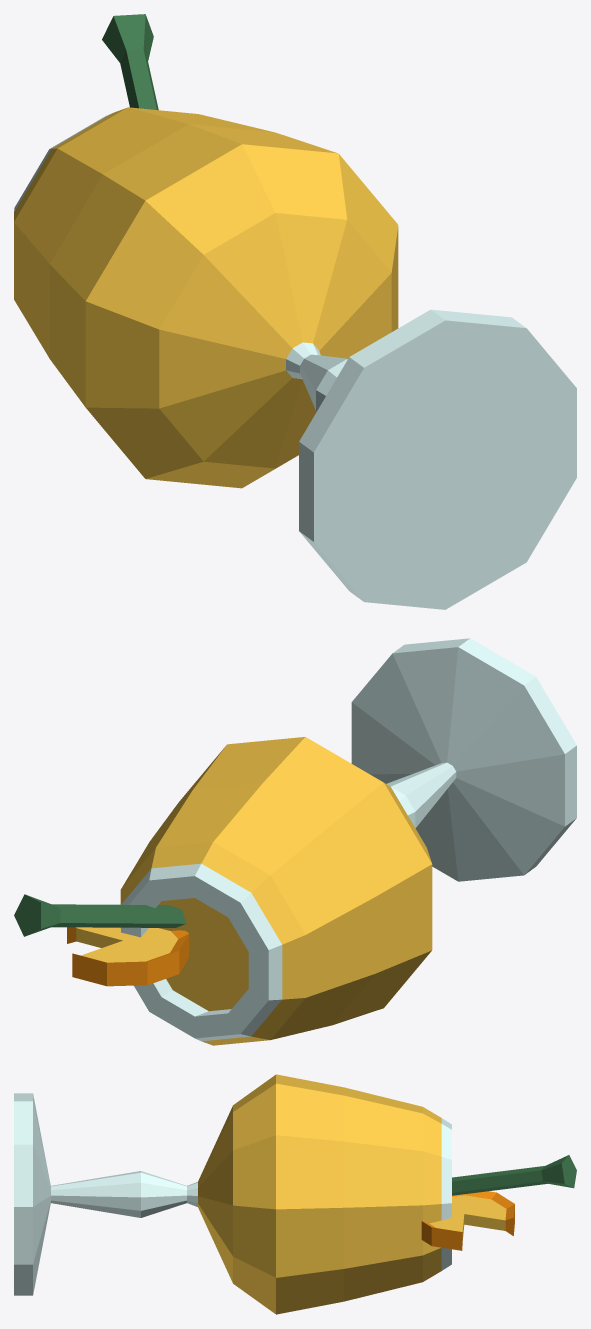
Rendered from mimosa.fbx.
3 renders of one model, top to bottom at view 1: azimuth 30°, elevation 25°; view 2: azimuth 150°, elevation 25°; view 3: azimuth 270°, elevation 25°, orthographic. The views are drawn at different scales.
Visible parts, largest first — view 1: mimosa, straw; view 2: mimosa, slice, straw; view 3: mimosa, slice, straw.
Part boxes in pixels (x1=…): mimosa: x1=14, y1=107, x2=576, y2=609; straw: x1=102, y1=14, x2=158, y2=110; mimosa: x1=120, y1=638, x2=576, y2=1045; slice: x1=67, y1=927, x2=189, y2=986; straw: x1=14, y1=894, x2=186, y2=936; mimosa: x1=14, y1=1074, x2=451, y2=1314; slice: x1=421, y1=1191, x2=514, y2=1250; straw: x1=452, y1=1155, x2=576, y2=1195.
Bounding box in the file's own units: 104 × 110 × 252.
